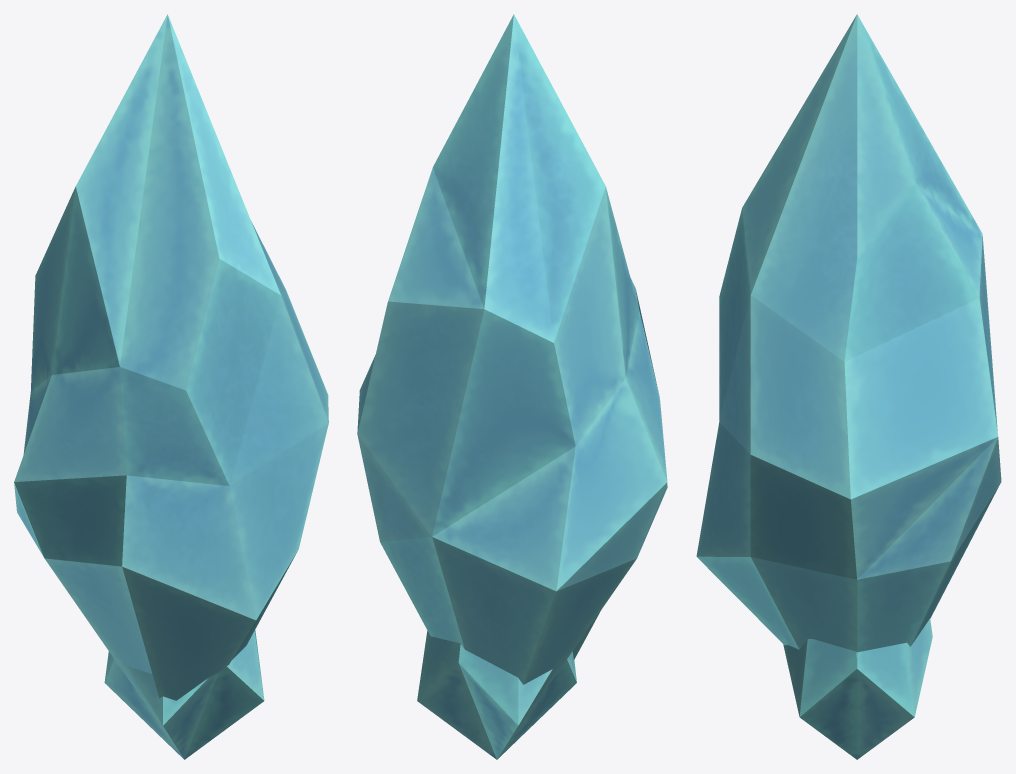
The model's file is Icicles.fbx.
3 views of the same model, side by side, from view 1: azimuth 30°, elevation 25°; view 2: azimuth 150°, elevation 25°; view 3: azimuth 270°, elevation 25° (orthographic).
Parts seen in each view (by area): view 1: Big_Icicle, Small_Icicle_1, Small_Icicle_2; view 2: Big_Icicle, Small_Icicle_1, Small_Icicle_2; view 3: Big_Icicle, Small_Icicle_1, Small_Icicle_2.
Part boxes in pixels (x1,y1,x2,y2): Big_Icicle: [14, 14, 328, 756]; Small_Icicle_1: [104, 632, 264, 759]; Small_Icicle_2: [104, 630, 263, 725]; Big_Icicle: [357, 14, 667, 757]; Small_Icicle_1: [417, 631, 576, 759]; Small_Icicle_2: [458, 643, 576, 725]; Big_Icicle: [696, 14, 1001, 652]; Small_Icicle_1: [783, 619, 932, 759]; Small_Icicle_2: [799, 618, 932, 716].
Size of the model in its own units: 0.558 by 1.29 by 0.482.
1 material, 1 textured.
